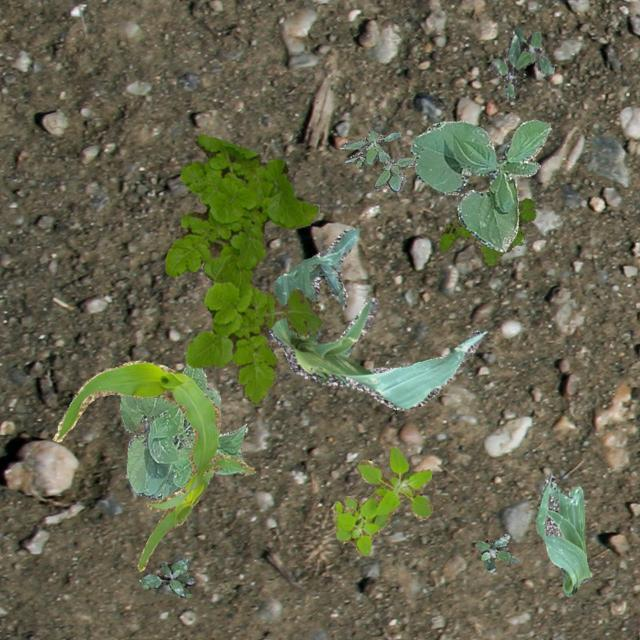crop: (52, 360, 254, 570), (268, 226, 486, 410), (410, 118, 550, 250), (118, 362, 246, 498), (534, 472, 590, 596)
weed: (164, 134, 324, 404), (332, 444, 432, 554), (438, 197, 536, 264), (338, 130, 416, 192), (489, 26, 554, 100), (138, 556, 194, 596), (476, 534, 518, 572)
